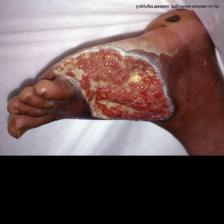Wound: (56, 45, 174, 124)
